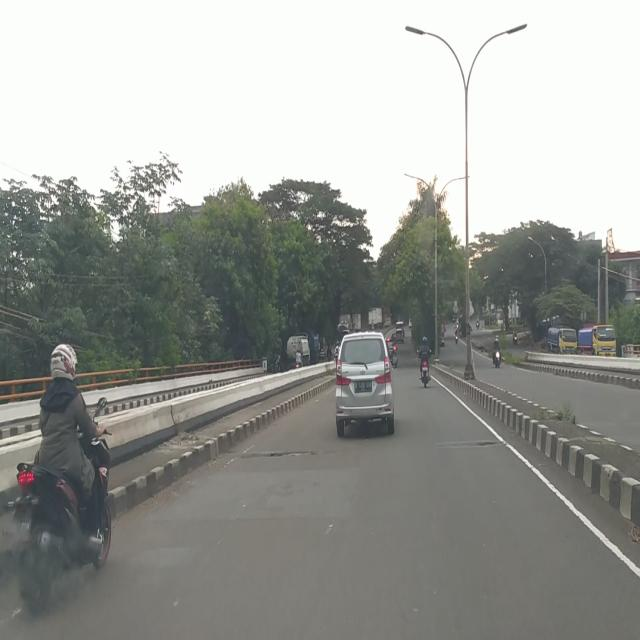Sewer Cover: (436, 436, 501, 450), (235, 450, 315, 460)
